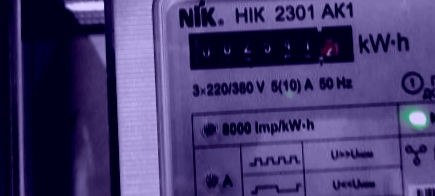0: (200, 37, 214, 59), (221, 34, 234, 56)
1: (302, 29, 313, 52)
2: (241, 32, 256, 55)
4: (282, 30, 293, 51)
5: (261, 32, 275, 55)
6: (324, 44, 336, 57)
screen: (176, 15, 367, 77)
